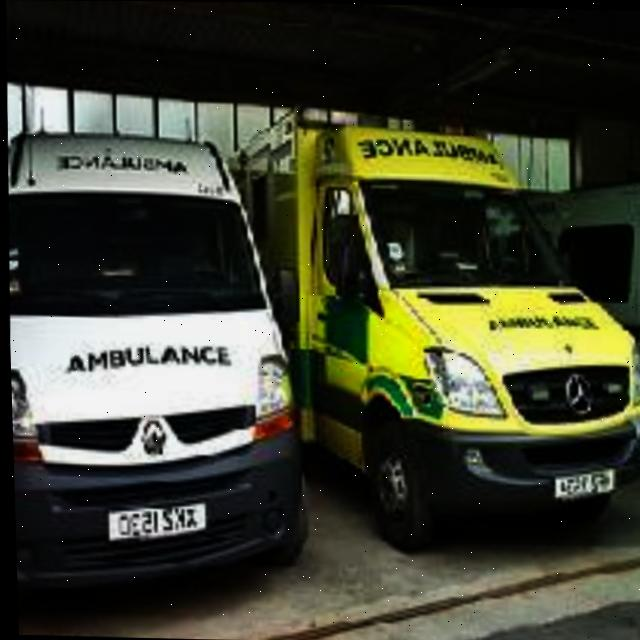emergency: (240, 126, 640, 545), (3, 133, 303, 598)
